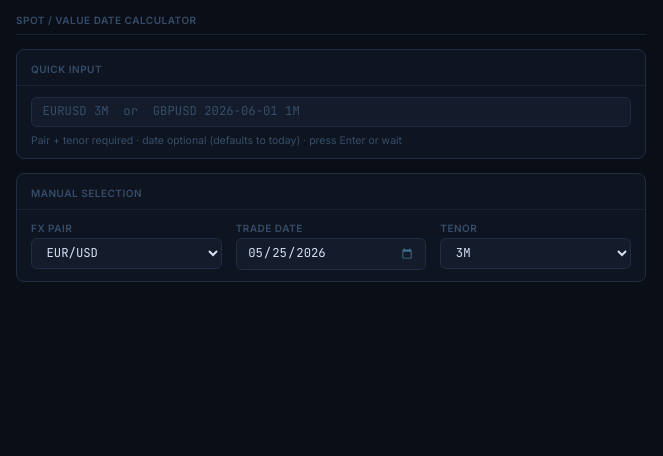
SpotCalculatorPage › shows loading skeleton while fetching
# Trigger debounce by changing tenor
Select "1M" in the dropdown showing "3M": (536, 253) [440,238,631,268]
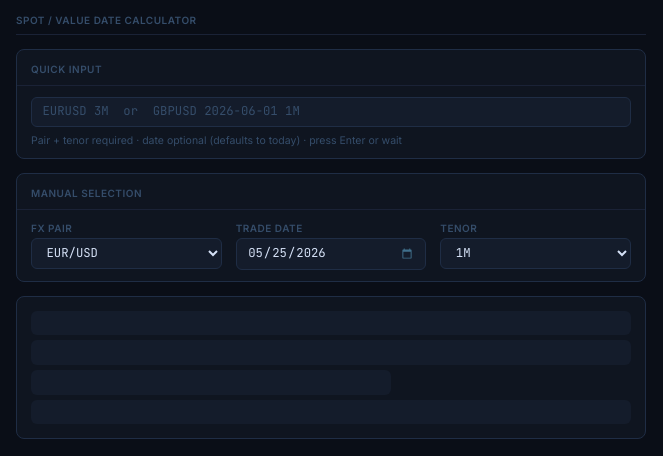
Check: the element with class "animate-pulse" is shown, box [16,296,646,439]
